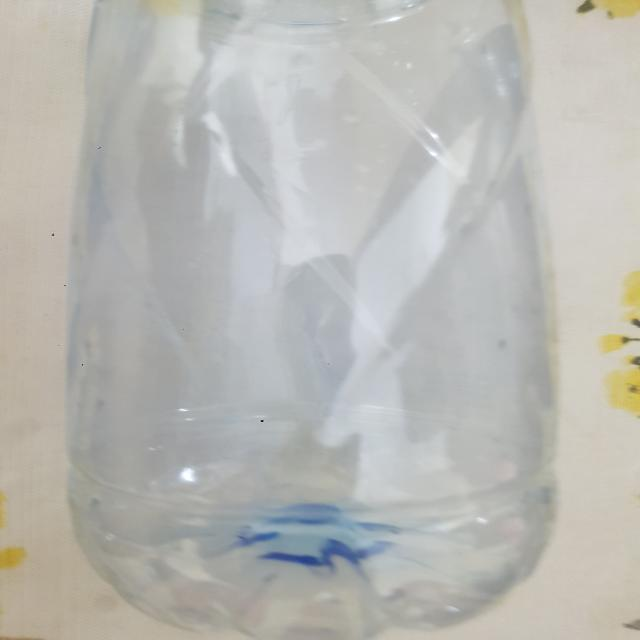general: (63, 0, 560, 638)
